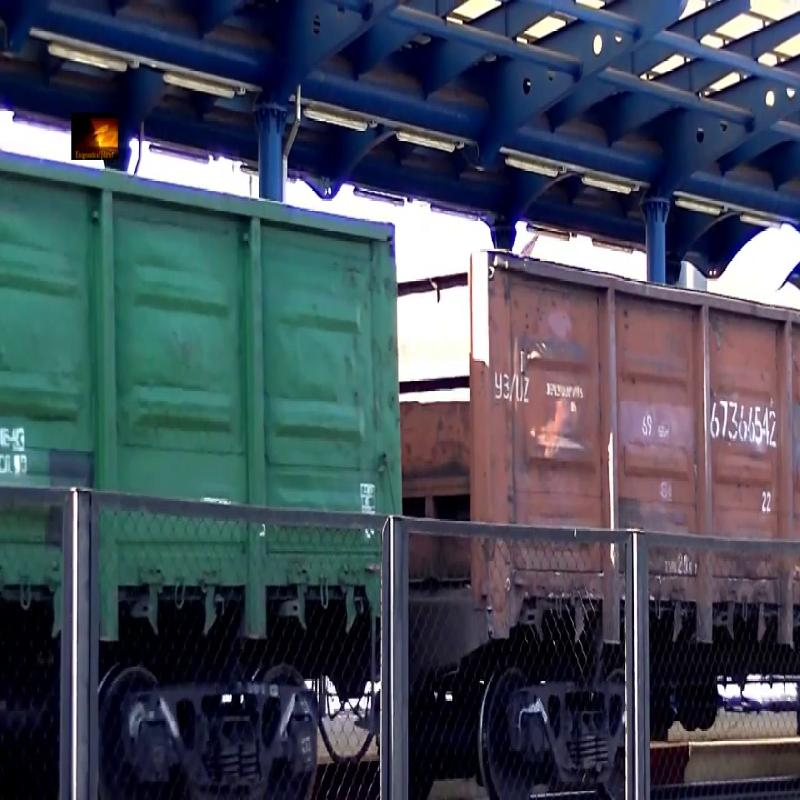train: (1, 47, 445, 771), (474, 46, 800, 766)
